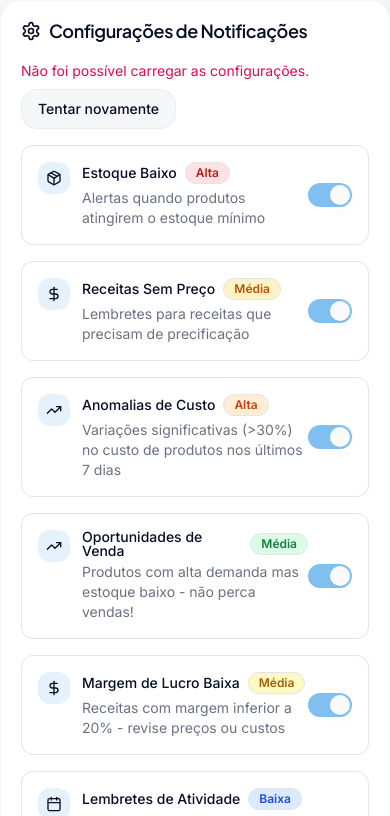
Test: does not overwrite preferences when loading fails and offers a retry
Expected: the message shows "Não foi possível carregar", [21, 62, 309, 79]
Click the button "Tentar novamente": (99, 109) [21, 89, 176, 129]
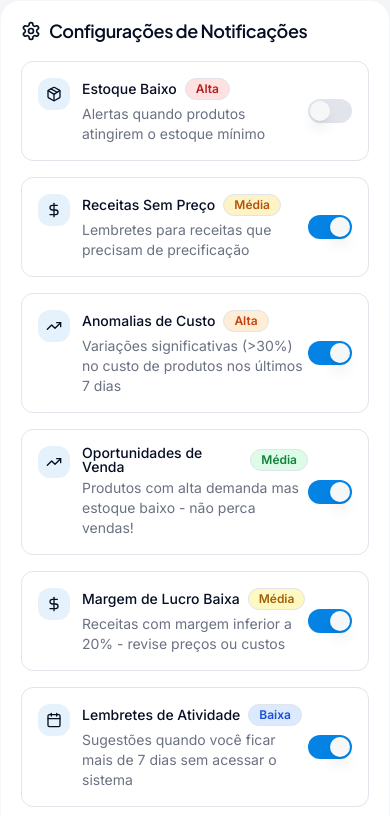
Now the 1st switch named "Estoque Baixo" is not checked, box [308, 99, 352, 123]
